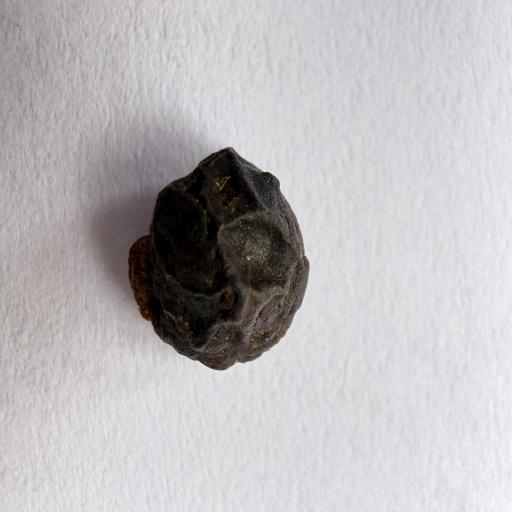Black_pepper: (123, 120, 330, 393)
